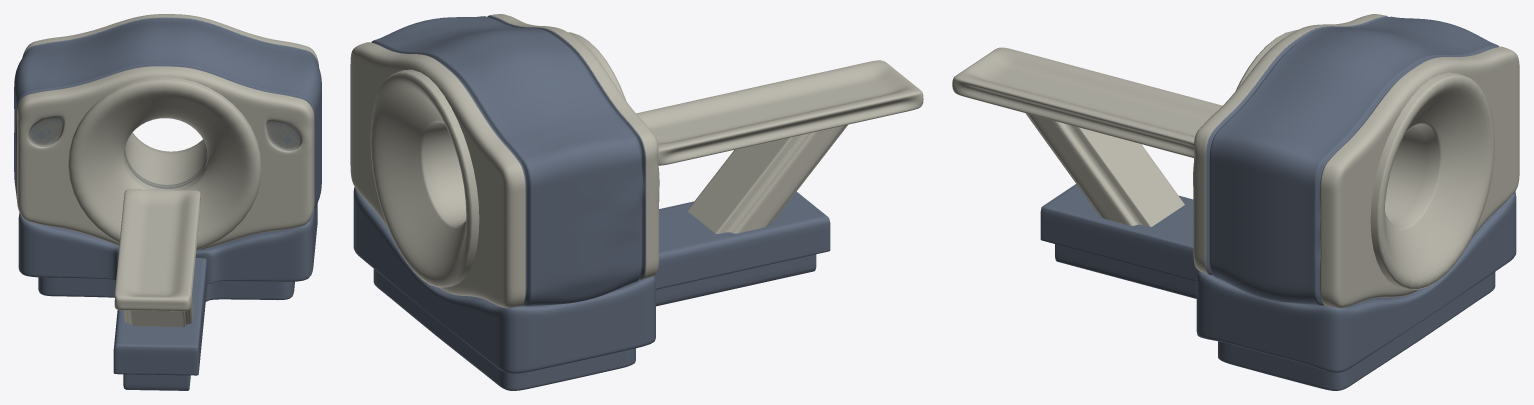
File: mri.glb
3 renders of one model, left to right at view 1: azimuth 30°, elevation 25°; view 2: azimuth 150°, elevation 25°; view 3: azimuth 270°, elevation 25°, orthographic. The views are drawn at different scales.
Visible parts, largest first — view 1: Chassis; view 2: Chassis; view 3: Chassis.
Part boxes in pixels (<box>): Chassis: <box>14,14,321,390</box>; Chassis: <box>350,14,923,390</box>; Chassis: <box>952,14,1519,390</box>.
Bounding box in the file's own units: 1.7 × 1.13 × 2.07.
Materials: 1 (1 with a texture image).
